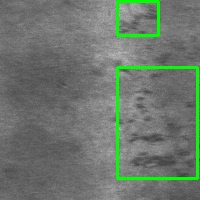rolled-in_scale: (117, 67, 197, 178), (117, 1, 158, 35)
